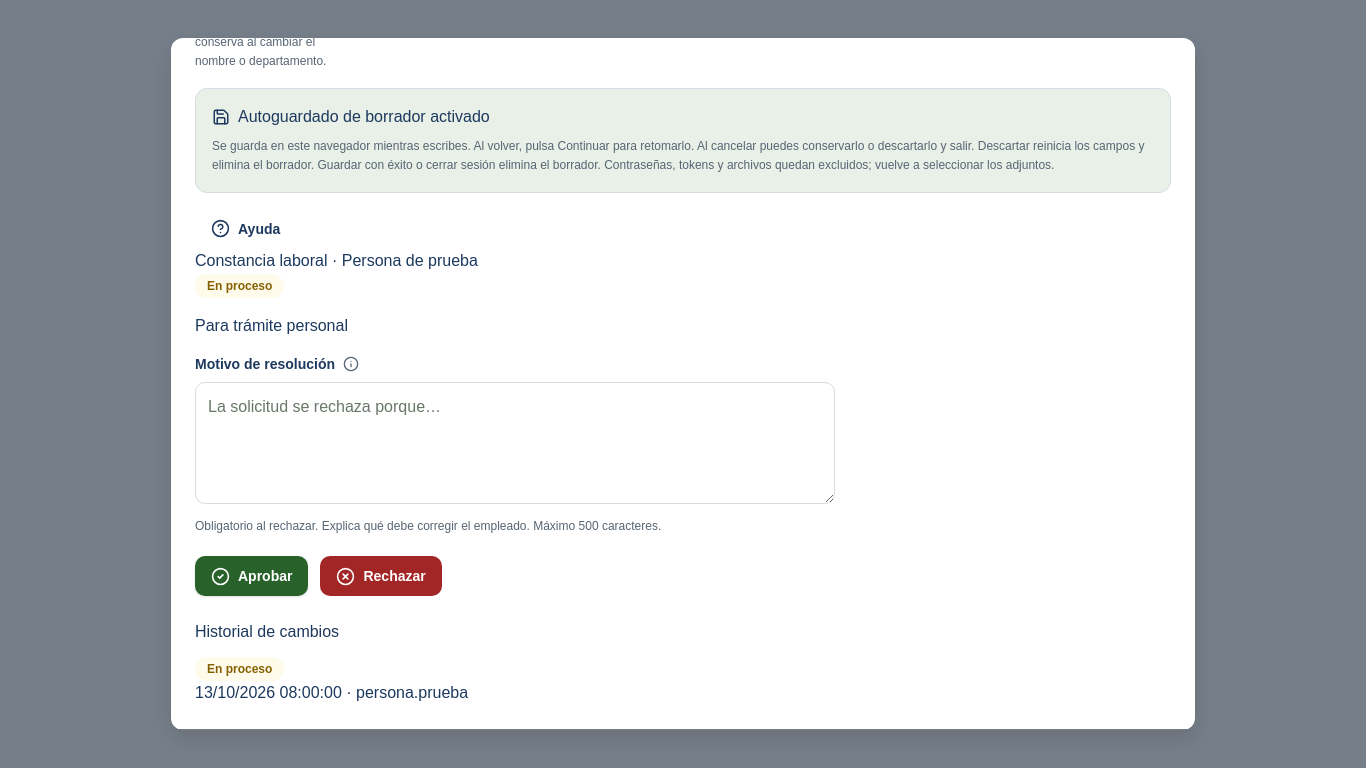
it: Gestiones: resolución, entrega y permisos en interfaz › rechazar exige motivo antes de abrir confirmación
(page scrolled)
Click the button "Rechazar" at (381, 576), box [320,556,442,596]
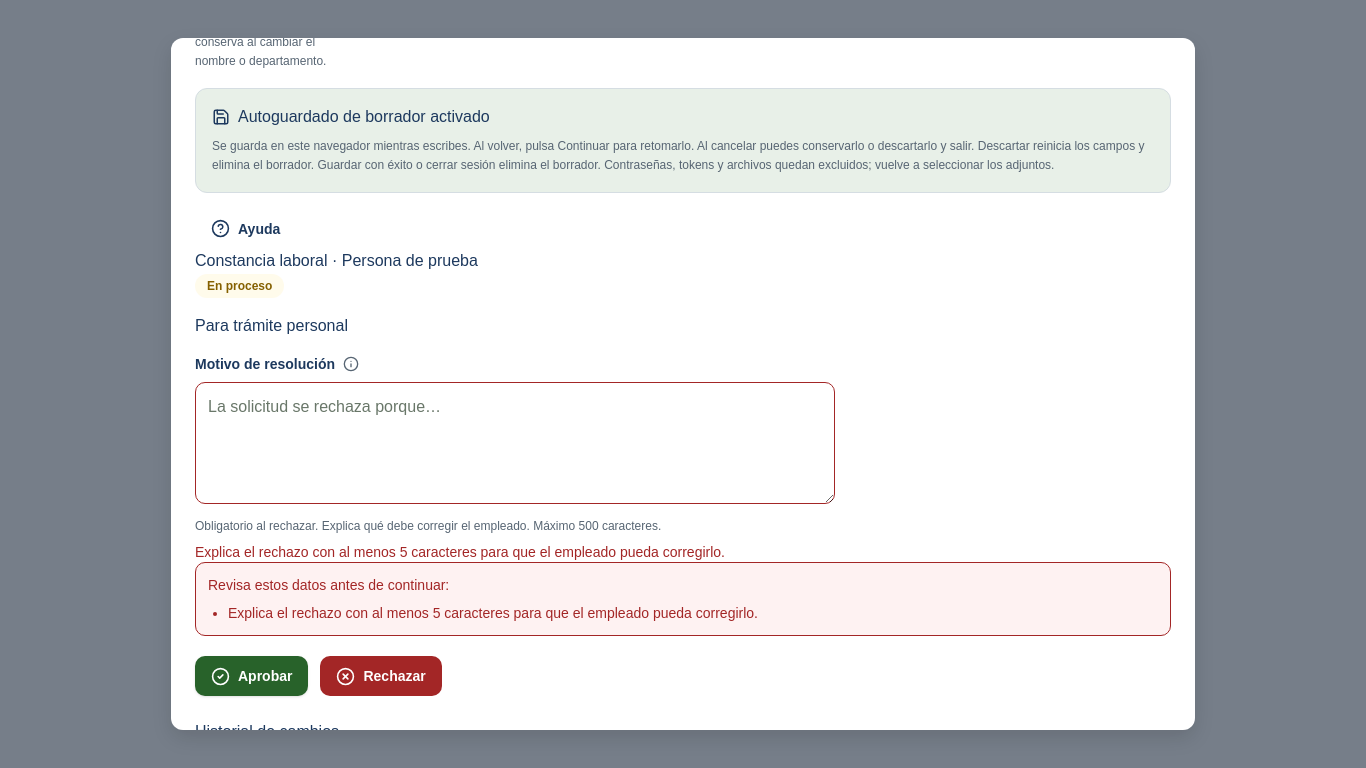
Expected: the text "al menos 5 caracteres" is shown, [195,544,725,560]
